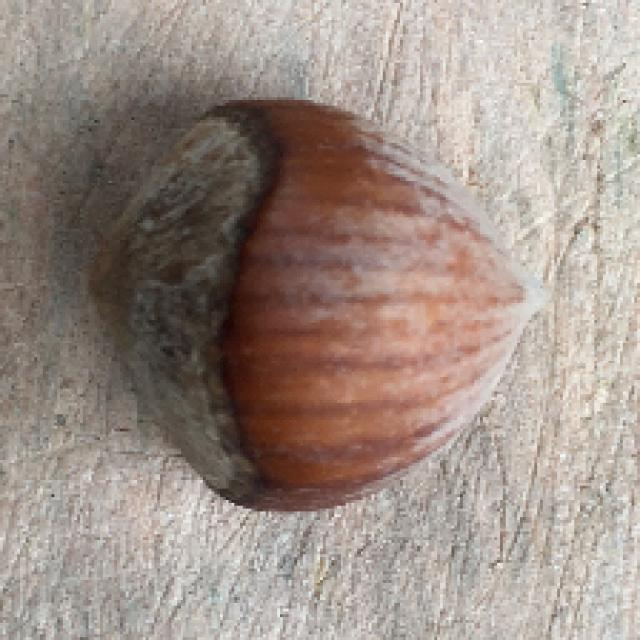qualityHazelnut: (83, 95, 540, 513)
